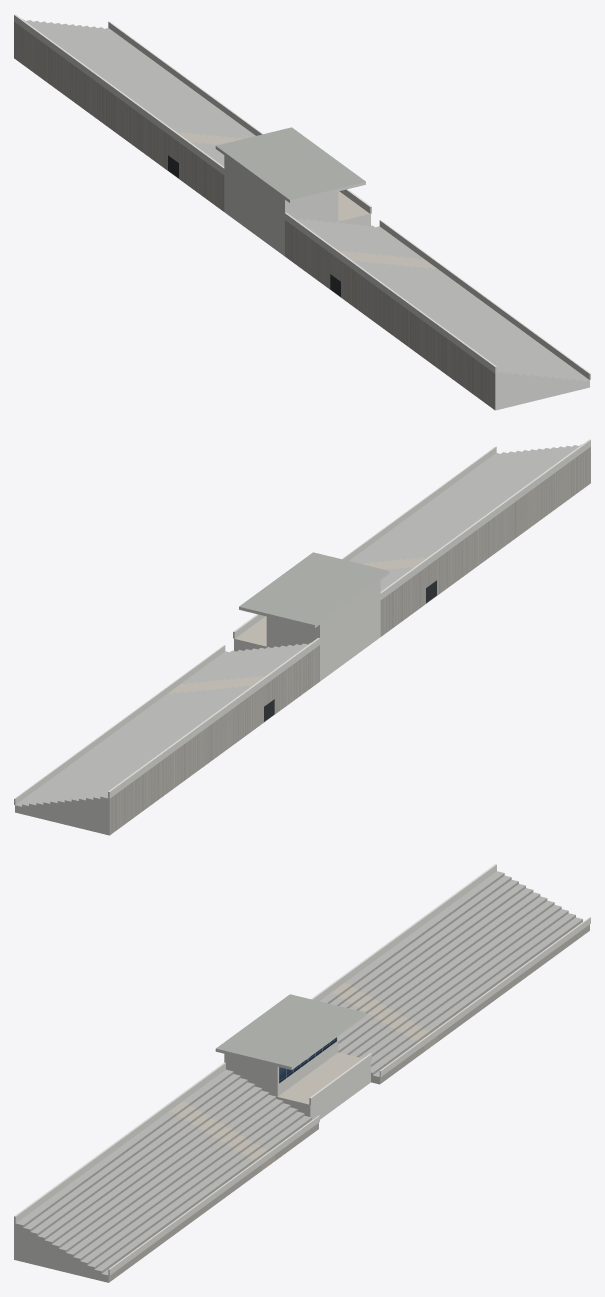
File: zhongyuan_zhuxitai.glb
The picture shows the model from 3 angles, top to bottom: view 1: azimuth 30°, elevation 25°; view 2: azimuth 150°, elevation 25°; view 3: azimuth 330°, elevation 25°; orthographic projection.
Parts seen in each view (by area): view 1: 中苑主席台; view 2: 中苑主席台; view 3: 中苑主席台.
Part boxes in pixels (bbox=[...]): 中苑主席台: bbox=[14, 14, 590, 410]; 中苑主席台: bbox=[14, 439, 590, 835]; 中苑主席台: bbox=[14, 864, 590, 1282].
Bounding box in the file's own units: 16.65 × 10.1 × 142.
8 materials, 3 textured.
